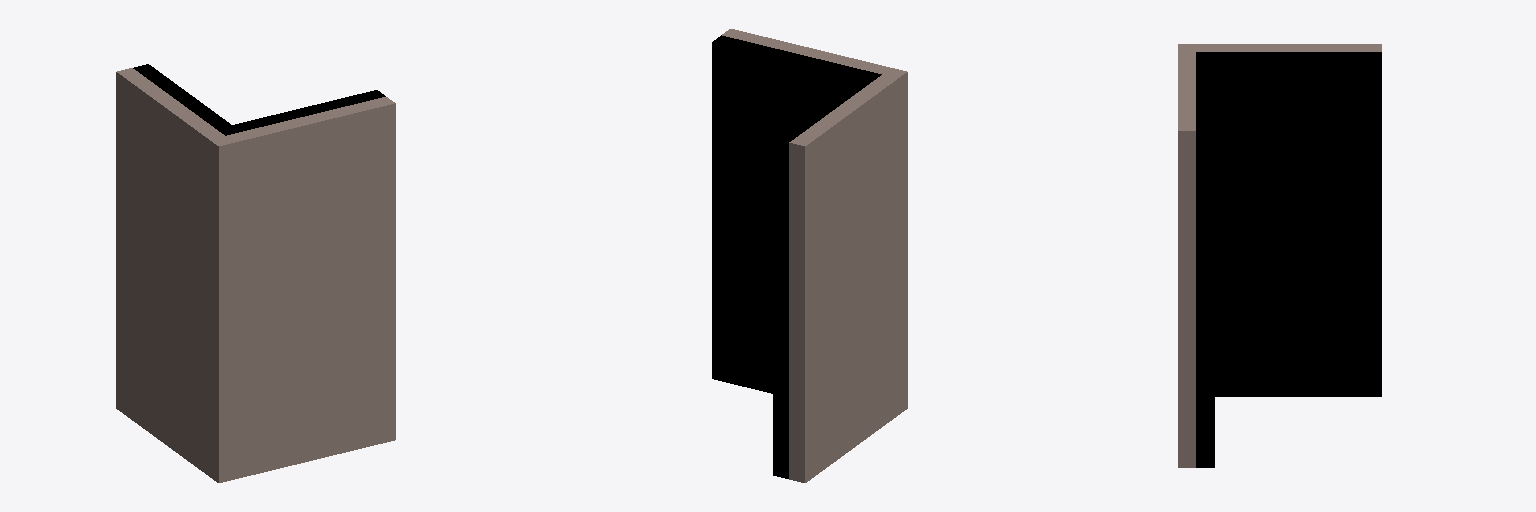
The picture shows the model from 3 angles: view 1: azimuth 30°, elevation 25°; view 2: azimuth 150°, elevation 25°; view 3: azimuth 270°, elevation 25°; orthographic projection.
Visible parts, largest first — view 1: object 1; view 2: object 1; view 3: object 1.
Part boxes in pixels (x1,y1,x2,y2): object 1: (116,64,395,482); object 1: (712,29,907,482); object 1: (1178,44,1381,467).
Size of the model in its own units: 1.1 by 2 by 1.1.
1 materials, 1 textured.